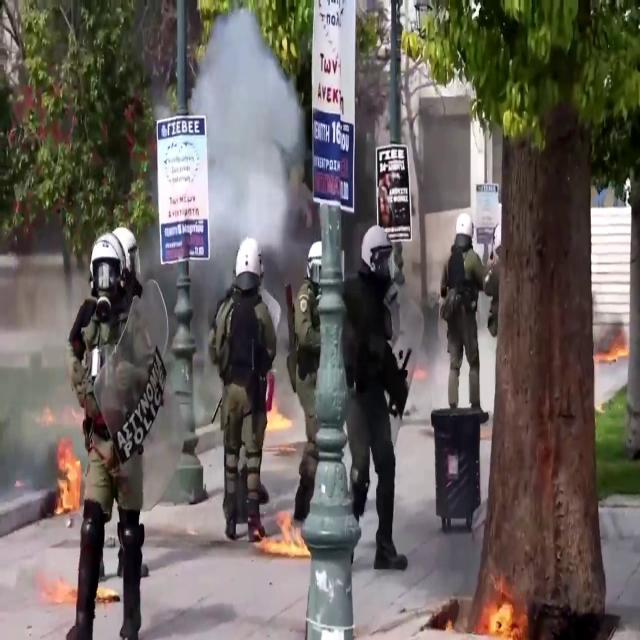Fire: (452, 580, 528, 640), (50, 434, 86, 520), (257, 504, 308, 560)
Smoke: (178, 9, 306, 276), (0, 234, 84, 493)
